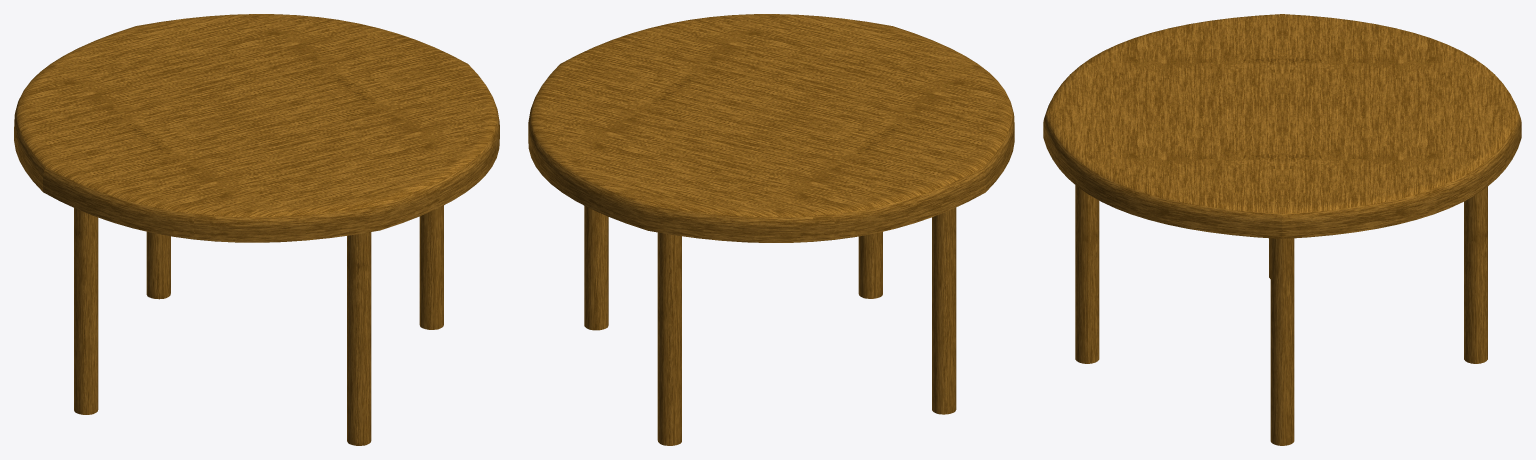
The model's file is MoonTable.FBX.
3 renders of one model, left to right at view 1: azimuth 30°, elevation 25°; view 2: azimuth 150°, elevation 25°; view 3: azimuth 270°, elevation 25°, orthographic. The views are drawn at different scales.
Parts seen in each view (by area): view 1: Box001, Box005, Box003, Box002, Box004; view 2: Box001, Box004, Box003, Box002, Box005; view 3: Box001, Box002, Box005, Box004.
Part boxes in pixels (x1=…): Box001: x1=14, y1=14, x2=499, y2=242; Box005: x1=347, y1=232, x2=371, y2=445; Box003: x1=74, y1=208, x2=98, y2=414; Box002: x1=419, y1=205, x2=443, y2=329; Box004: x1=146, y1=231, x2=170, y2=299; Box001: x1=528, y1=14, x2=1014, y2=242; Box004: x1=657, y1=232, x2=681, y2=445; Box003: x1=932, y1=207, x2=956, y2=414; Box002: x1=584, y1=206, x2=608, y2=330; Box005: x1=858, y1=231, x2=882, y2=298; Box001: x1=1043, y1=14, x2=1521, y2=238; Box002: x1=1270, y1=238, x2=1294, y2=445; Box005: x1=1075, y1=185, x2=1099, y2=363; Box004: x1=1464, y1=186, x2=1487, y2=363.
Size of the model in its own units: 100 by 56.91 by 99.95.
1 material, 1 textured.
